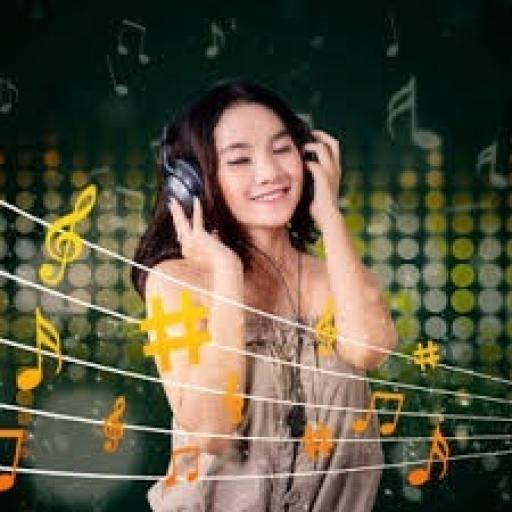listening_to_music: (127, 75, 403, 510)
